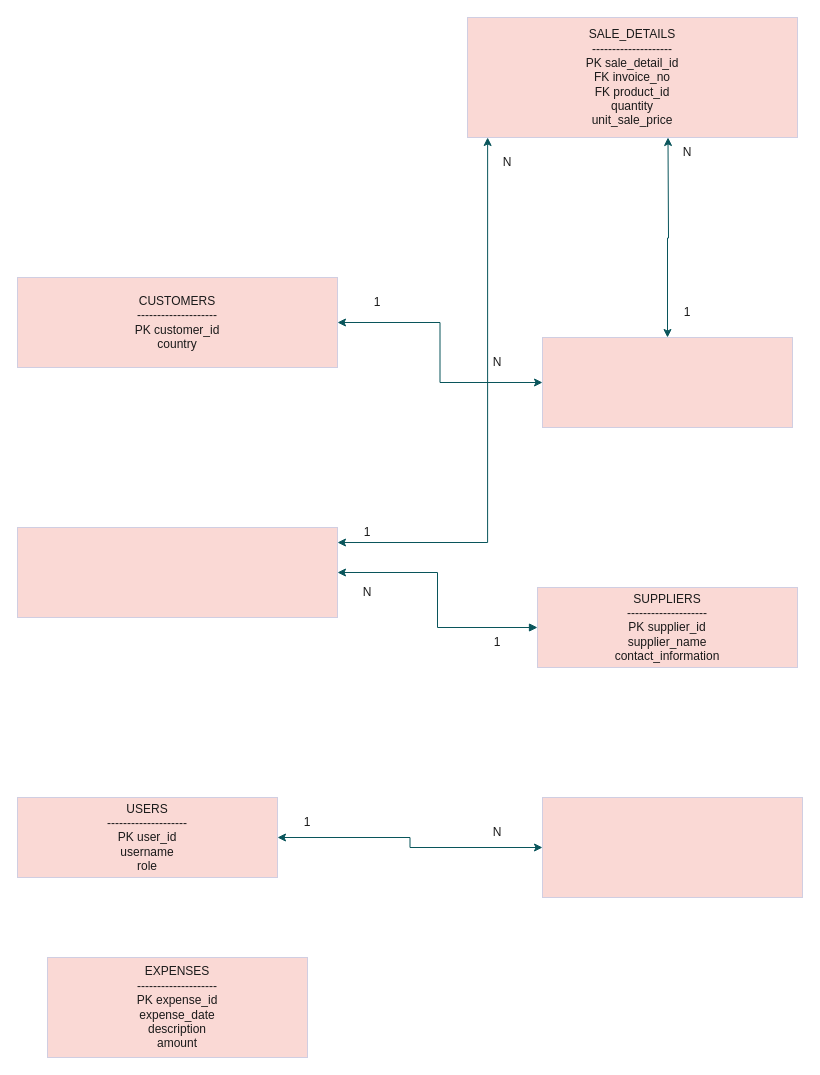
Some shapes in this 820 by 1075 pixel diagram are drawn without their labels. The shapes that lost their labels are listed below. From the top down, each one's box as (x1, y1, x2, y2) in pixels, then its label:
(542, 336, 792, 428): SALES -------------------- PK invoice_no invoice_date FK customer_id
(16, 526, 338, 618): PRODUCTS -------------------- PK product_id FK supplier_id description
(542, 796, 802, 898): AUDIT_LOG -------------------- PK audit_id FK user_id action action_date
